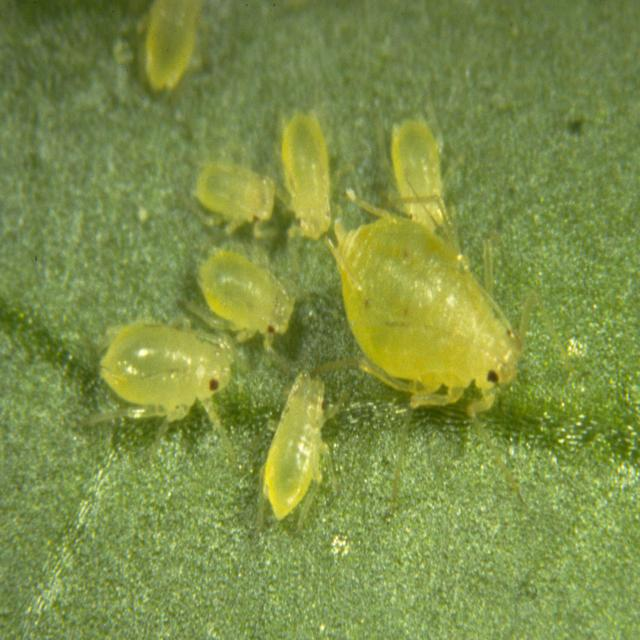Aphid-Grown-: (320, 205, 536, 418), (80, 300, 246, 433), (254, 348, 354, 522), (185, 223, 310, 361), (179, 133, 284, 246), (380, 82, 450, 244), (269, 91, 340, 244)
